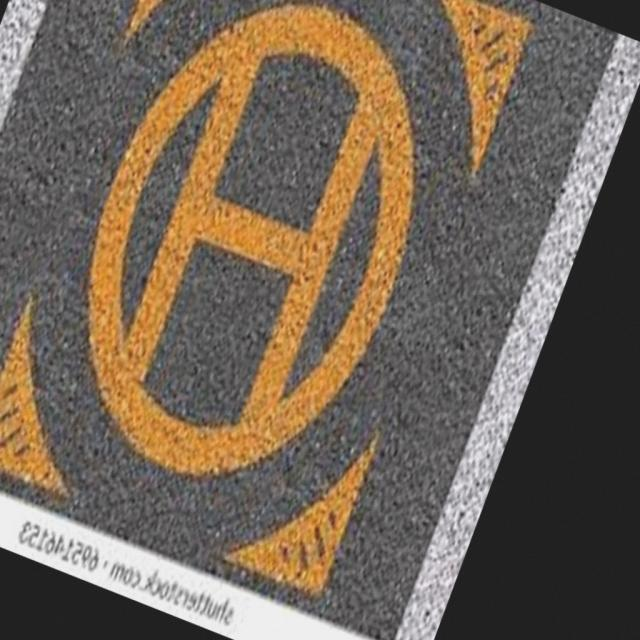helipad: (78, 0, 420, 481)
